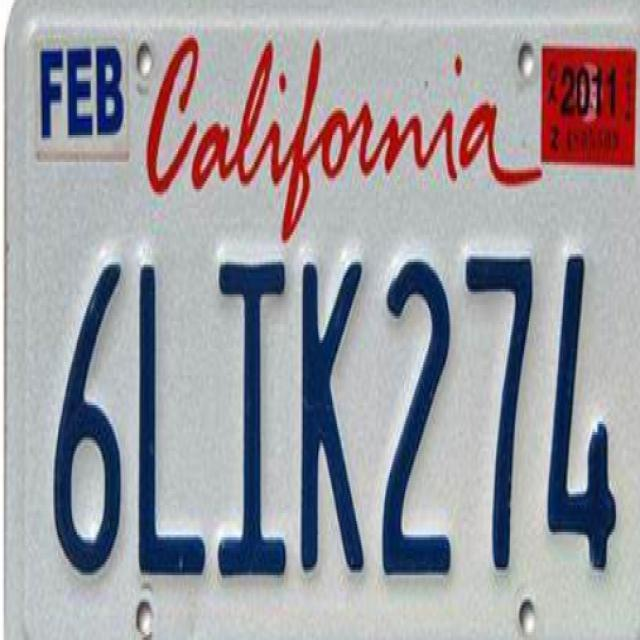4: (542, 242, 623, 583)
6: (49, 252, 128, 586)
7: (462, 246, 540, 578)
I: (214, 245, 295, 592)
K: (298, 248, 369, 576)
L: (132, 258, 208, 588)
